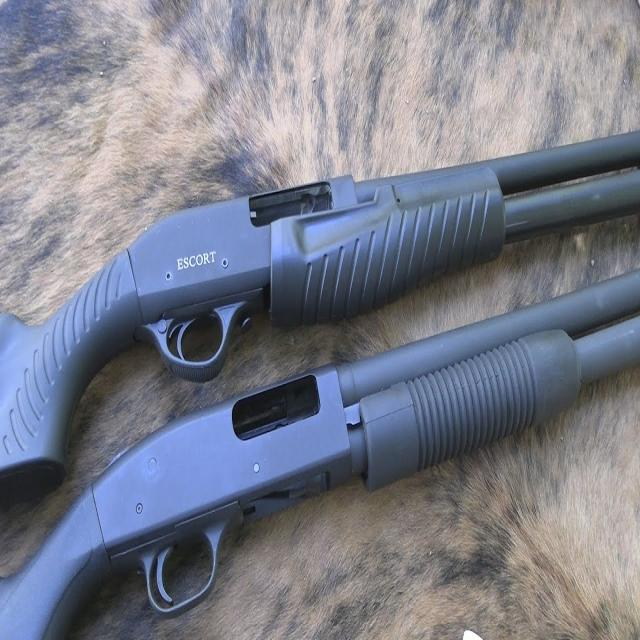ShotGun: (0, 131, 640, 508), (0, 270, 640, 640)
